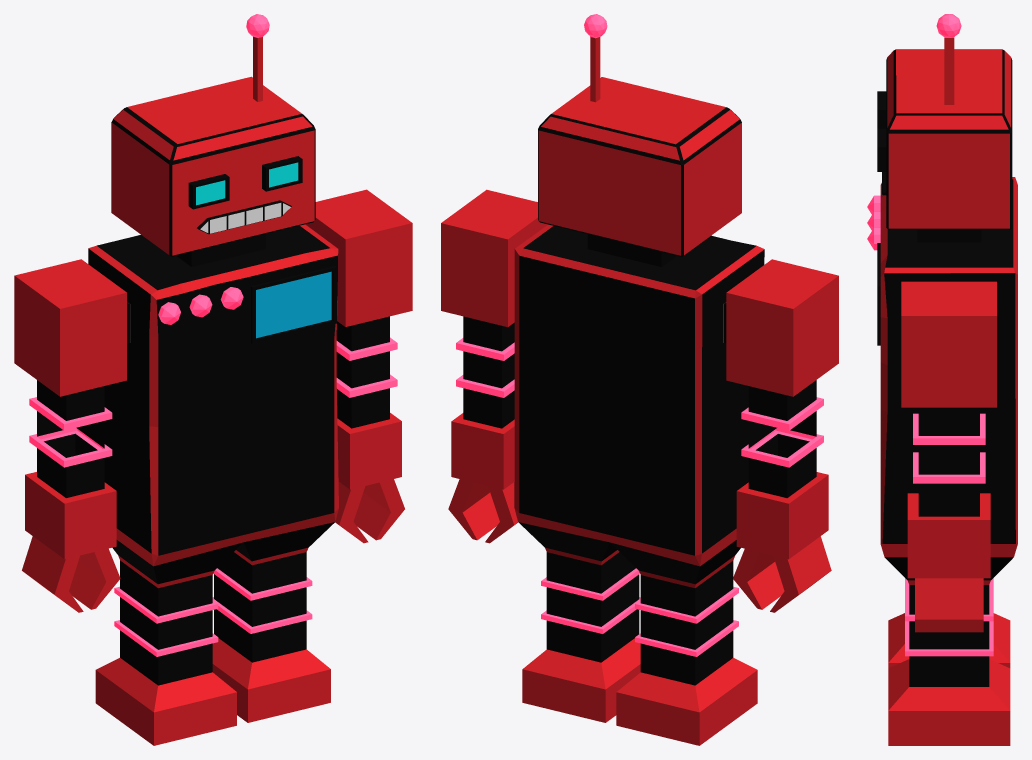
Rendered from BotBasic.fbx.
3 views of the same model, side by side, from view 1: azimuth 30°, elevation 25°; view 2: azimuth 150°, elevation 25°; view 3: azimuth 270°, elevation 25° (orthographic). The views are drawn at different scales.
Visible parts, largest first — view 1: BasicBot; view 2: BasicBot; view 3: BasicBot.
Boxes of the visible parts, <box> form: BasicBot: <box>14,14,412,745</box>; BasicBot: <box>441,14,838,745</box>; BasicBot: <box>867,14,1017,745</box>.
Bounding box in the file's own units: 483 × 886 × 171.
